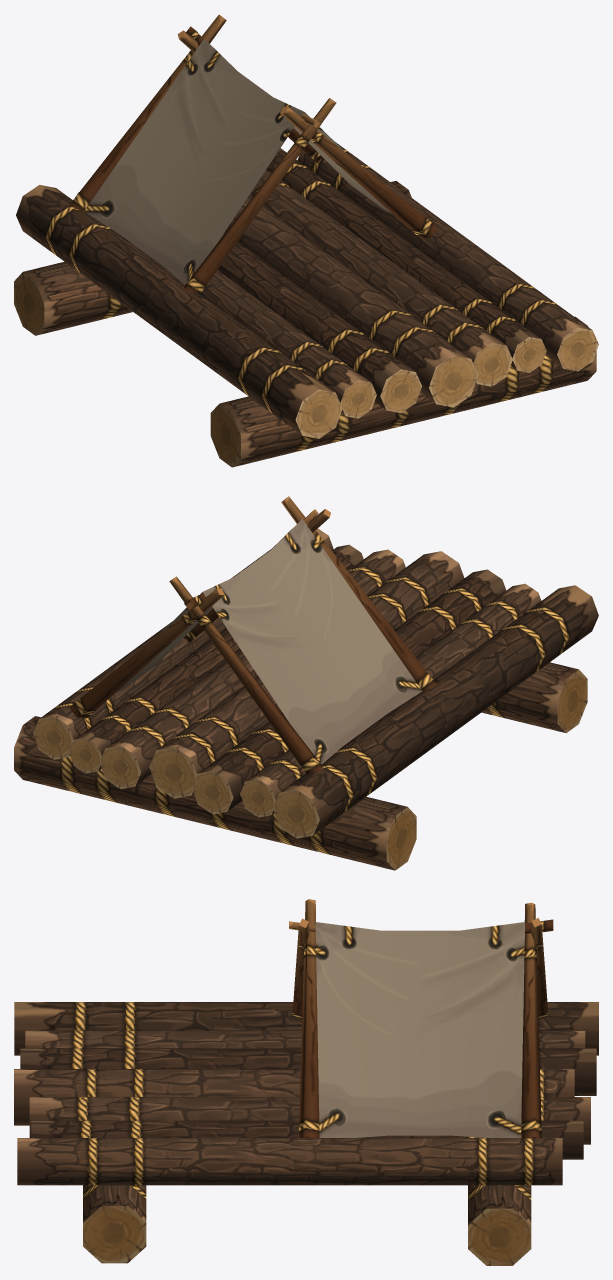
File: raft03.fbx
The picture shows the model from 3 angles, top to bottom: view 1: azimuth 30°, elevation 25°; view 2: azimuth 150°, elevation 25°; view 3: azimuth 270°, elevation 25°; orthographic projection. The views are drawn at different scales.
Visible parts, largest first — view 1: raft03; view 2: raft03; view 3: raft03.
Boxes of the visible parts, left/top/right/bottom form: raft03: left=14, top=14, right=598, bottom=467; raft03: left=14, top=496, right=598, bottom=870; raft03: left=14, top=899, right=598, bottom=1265.
Bounding box in the file's own units: 278 × 179 × 360.
